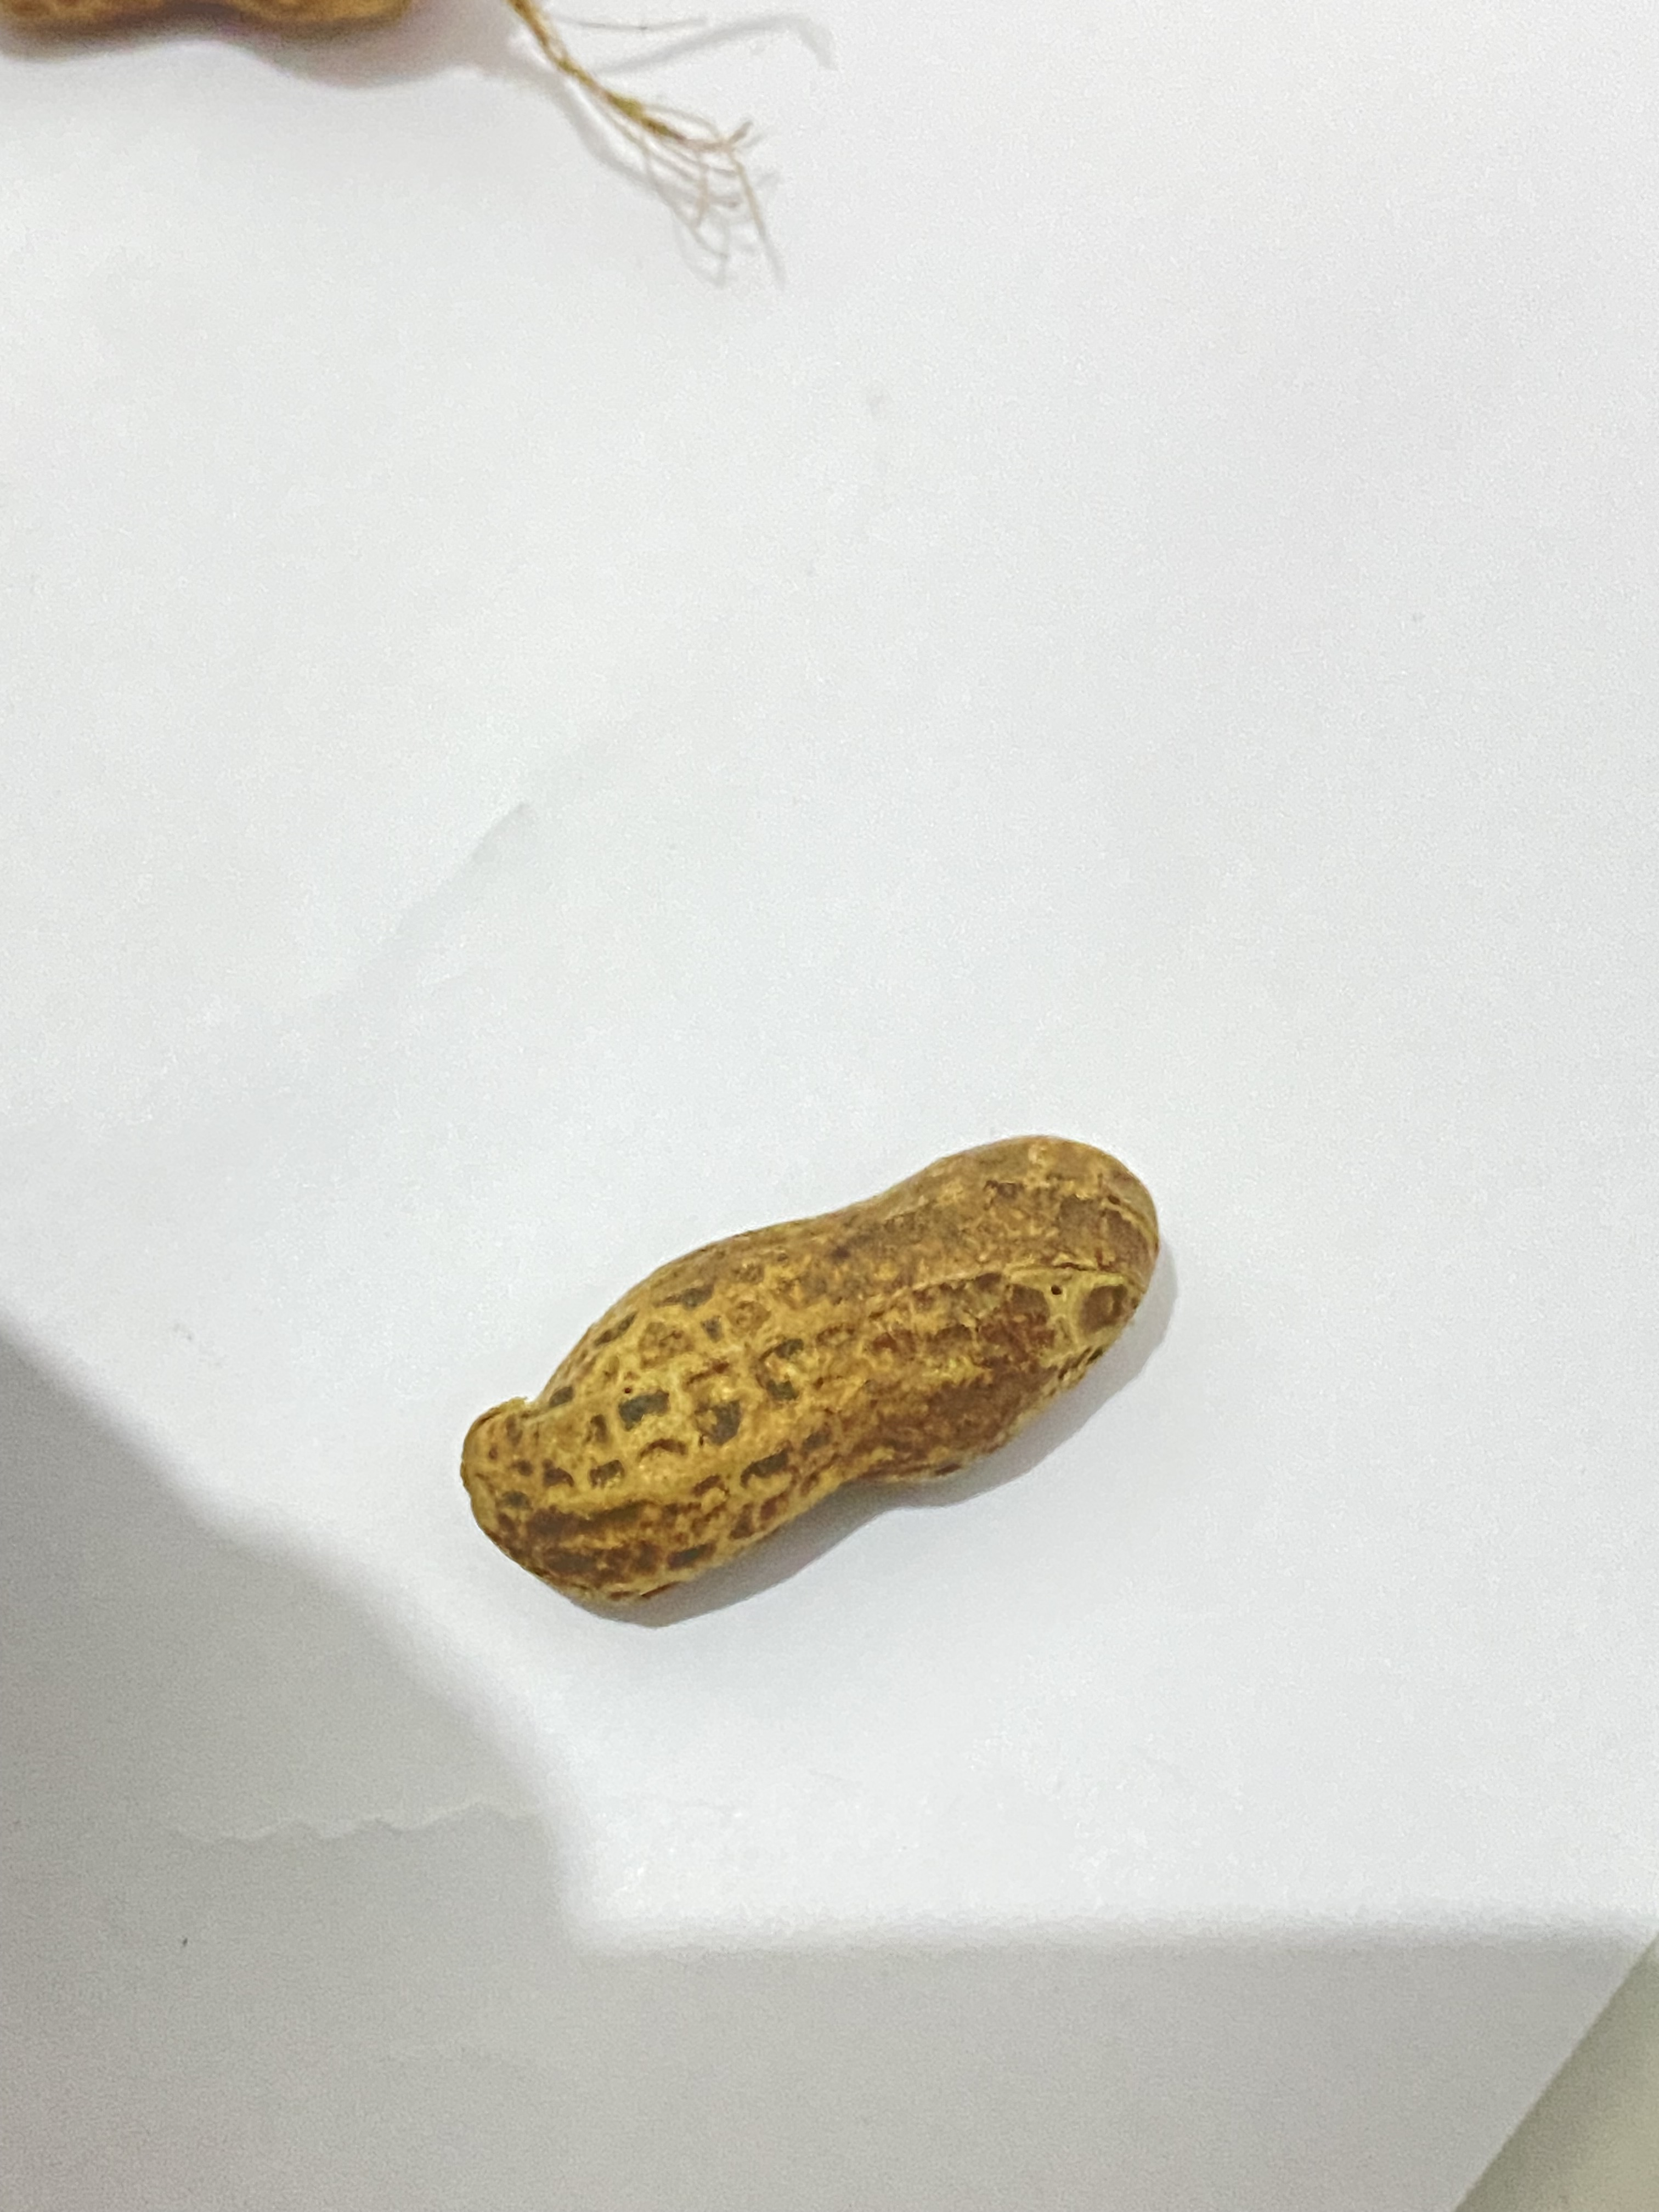kacang2: (450, 1068, 1256, 1641)
